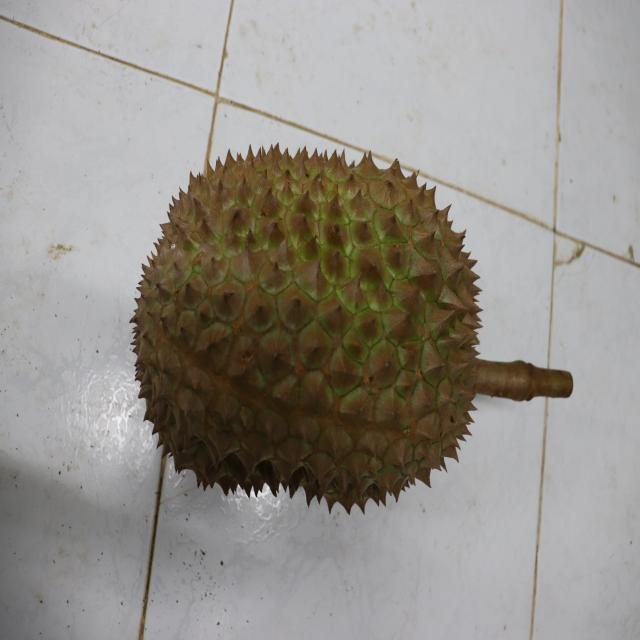mature: (125, 143, 482, 516)
